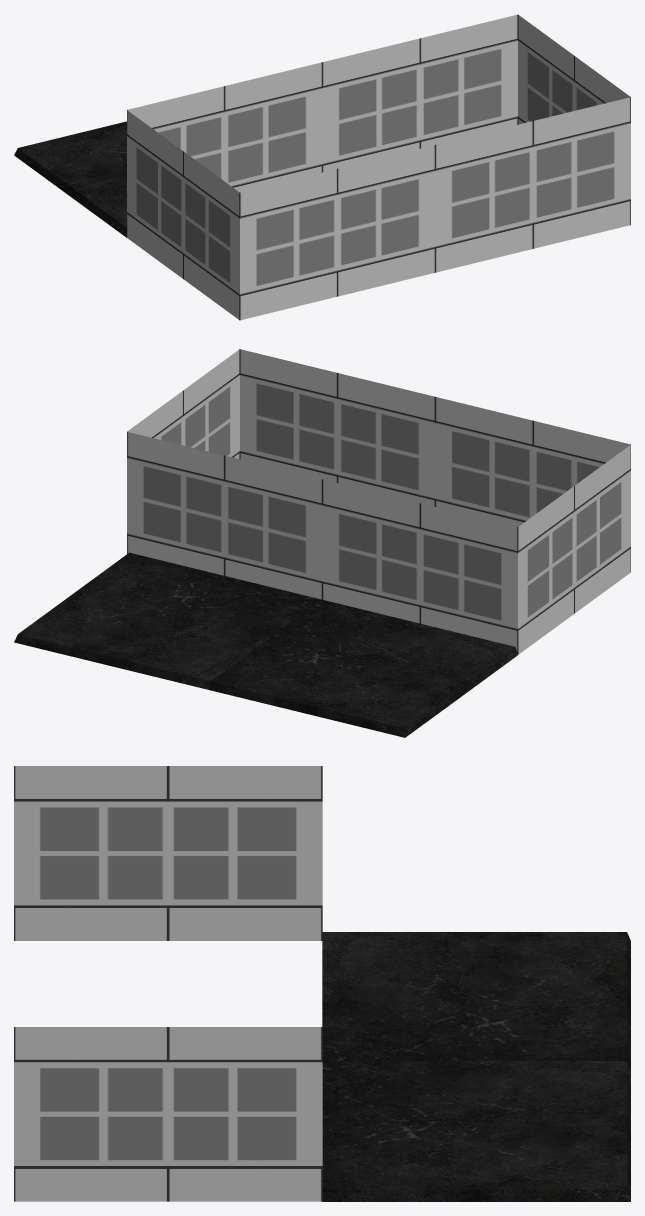
Rendered from highrise_4to2.glb.
The picture shows the model from 3 angles, top to bottom: view 1: azimuth 30°, elevation 25°; view 2: azimuth 150°, elevation 25°; view 3: azimuth 270°, elevation 25°; orthographic projection. The views are drawn at different scales.
Visible parts, largest first — view 1: Highrise.4to2; view 2: Highrise.4to2; view 3: Highrise.4to2.
Boxes of the visible parts, x1,y1,x2,y2 form: Highrise.4to2: (14,14,630,320); Highrise.4to2: (14,349,630,737); Highrise.4to2: (14,766,630,1201).
Bounding box in the file's own units: 0.8 × 0.2503 × 0.8.
Materials: 1 (1 with a texture image).
